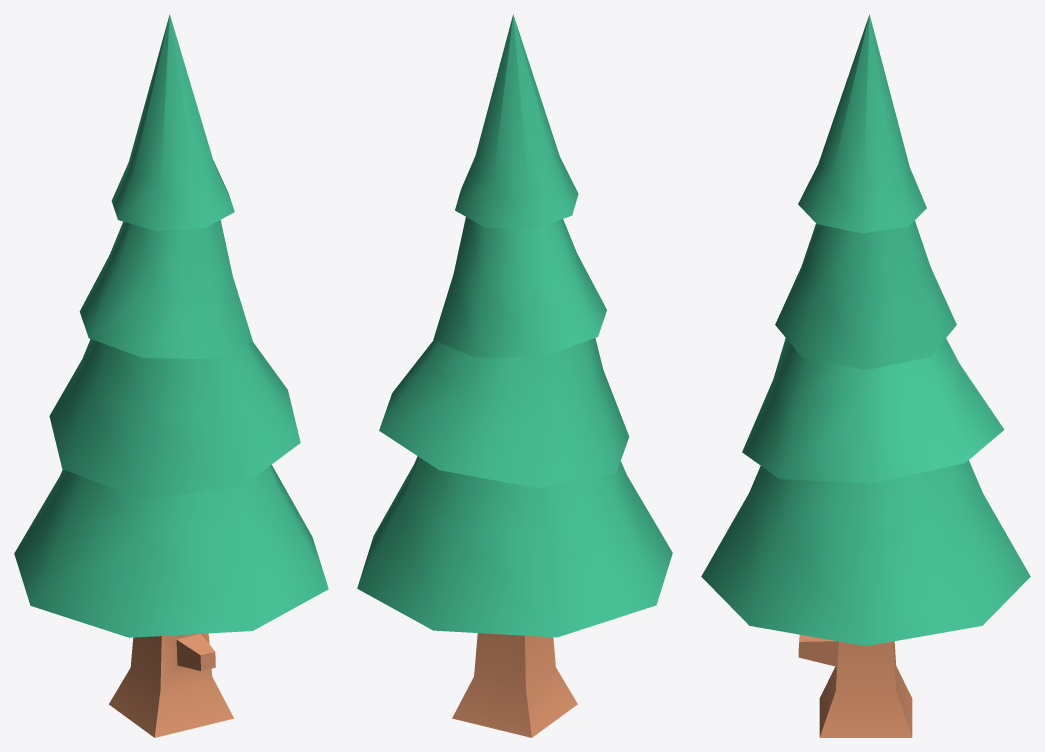
The model's file is treeCrooked.dae.
The picture shows the model from 3 angles, left to right: view 1: azimuth 30°, elevation 25°; view 2: azimuth 150°, elevation 25°; view 3: azimuth 270°, elevation 25°; orthographic projection.
Parts seen in each view (by area): view 1: treeCrooked; view 2: treeCrooked; view 3: treeCrooked.
Boxes of the visible parts, left/top/right/bottom form: treeCrooked: left=14, top=14, right=328, bottom=737; treeCrooked: left=357, top=14, right=672, bottom=737; treeCrooked: left=701, top=14, right=1030, bottom=737.
Size of the model in its own units: 1.02 by 2.41 by 1.02.
